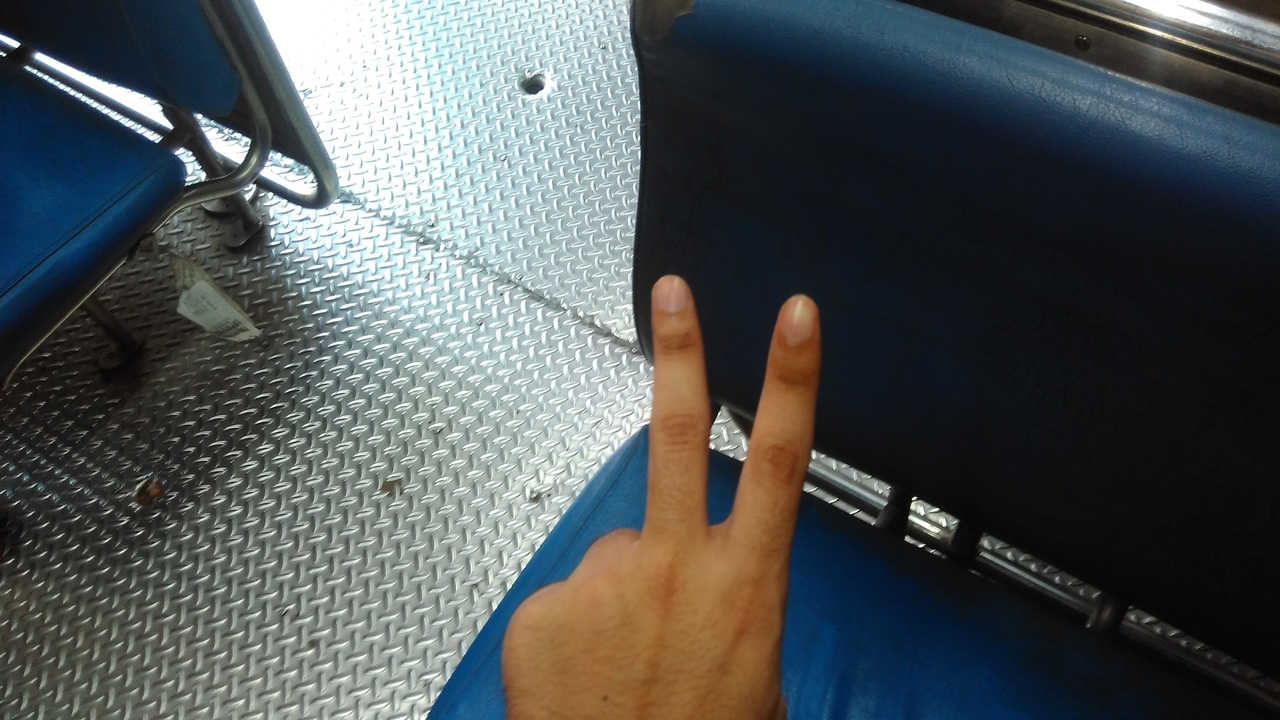fingertip: (766, 286, 828, 352), (644, 270, 710, 330)
